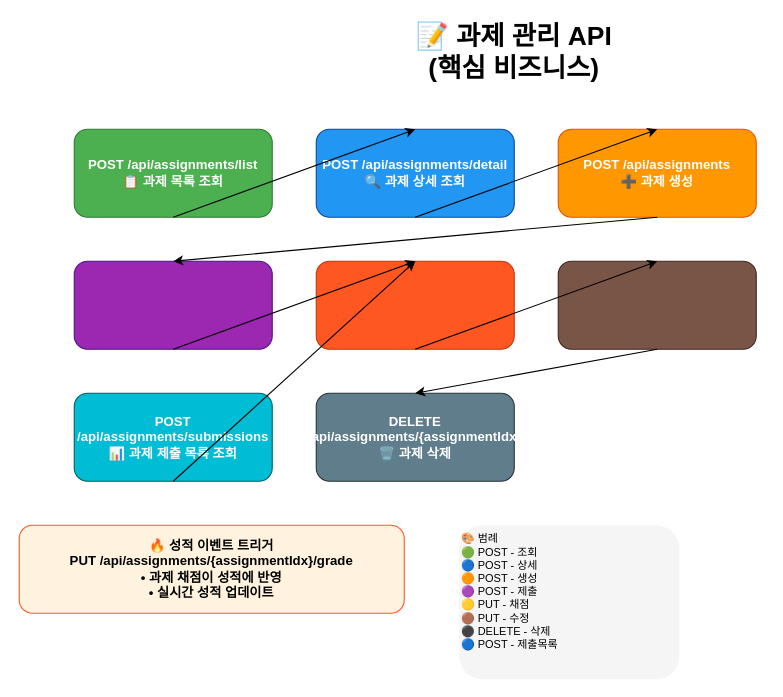
This 783x697 diagram has some shape labels left out. Each missing label, with the box of its shape:
POST /api/assignments/{assignmentIdx}/submit 📤 과제 제출: (73, 260, 272, 349)
PUT /api/assignments/{assignmentIdx} ✏️ 과제 수정: (557, 260, 756, 349)
PUT /api/assignments/{assignmentIdx}/grade 🎯 과제 채점 🔥 성적 이벤트 트리거: (315, 260, 514, 349)
